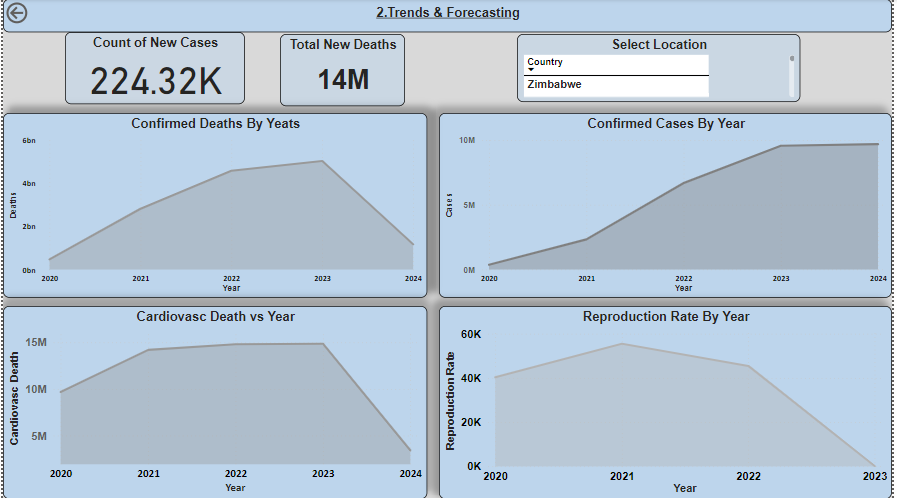

The page's visual inventory and layout, read from the dashboard file:
{"tool":"powerbi","page":{"name":"Time Series Analysis","canvas":[1280,720],"ordinal":1},"visuals":[{"type":"lineChart","title":"Confirmed Deaths By Yeats","fields":{"Category":["owid-covid-data.date.Variation.Date Hierarchy.Year"],"Y":["Sum(owid-covid-data.total_deaths)"]},"box":[0,164.2,610.6,266.4],"z":0},{"type":"textbox","box":[0,0,1280.2,47.5],"z":1000},{"type":"lineChart","title":"Cardiovasc Death vs Year","fields":{"Y":["Sum(owid-covid-data.cardiovasc_death_rate)"],"Category":["owid-covid-data.date.Variation.Date Hierarchy.Year","owid-covid-data.date.Variation.Date Hierarchy.Month","owid-covid-data.date.Variation.Date Hierarchy.Day"]},"box":[0,442.1,610.6,277.9],"z":2000},{"type":"lineChart","title":"Confirmed Cases By Year","fields":{"Y":["Avg(owid-covid-data.total_cases)"],"Category":["owid-covid-data.date.Variation.Date Hierarchy.Year"]},"box":[627.8,164.2,652.3,266.4],"z":3000},{"type":"lineChart","title":"Reproduction Rate By Year","fields":{"Category":["owid-covid-data.date.Variation.Date Hierarchy.Year"],"Y":["Sum(owid-covid-data.reproduction_rate)"]},"box":[627.8,442.1,652.3,277.9],"z":4000},{"type":"actionButton","box":[0,0,100,40],"z":5000},{"type":"card","title":"Count of New Cases","fields":{"Values":["CountNonNull(owid-covid-data.new_cases)"]},"box":[89.3,47.5,259.2,103.7],"z":6000},{"type":"card","title":"Total New Deaths","fields":{"Values":["Sum(owid-covid-data.new_deaths)"]},"box":[550.1,47.5,180,103.7],"z":7000},{"type":"tableEx","title":"Select Date From Here","fields":{"Values":["owid-covid-data.date.Variation.Date Hierarchy.Year","owid-covid-data.date.Variation.Date Hierarchy.Quarter","owid-covid-data.date.Variation.Date Hierarchy.Month","owid-covid-data.date.Variation.Date Hierarchy.Day"]},"box":[1015.2,53.3,244.8,90.7],"z":8000}]}

Visuals, with their boxes in screenshot pixels (x1, y1, x2, y2), scaled from the page's 1280x720 canvas onto the 897x498 screenshot:
"Confirmed Deaths By Yeats" lineChart: box=[0, 114, 428, 298]
textbox: box=[0, 0, 896, 33]
"Cardiovasc Death vs Year" lineChart: box=[0, 306, 428, 497]
"Confirmed Cases By Year" lineChart: box=[440, 114, 896, 298]
"Reproduction Rate By Year" lineChart: box=[440, 306, 896, 497]
actionButton: box=[0, 0, 70, 28]
"Count of New Cases" card: box=[63, 33, 244, 105]
"Total New Deaths" card: box=[385, 33, 512, 105]
"Select Date From Here" tableEx: box=[711, 37, 883, 100]
